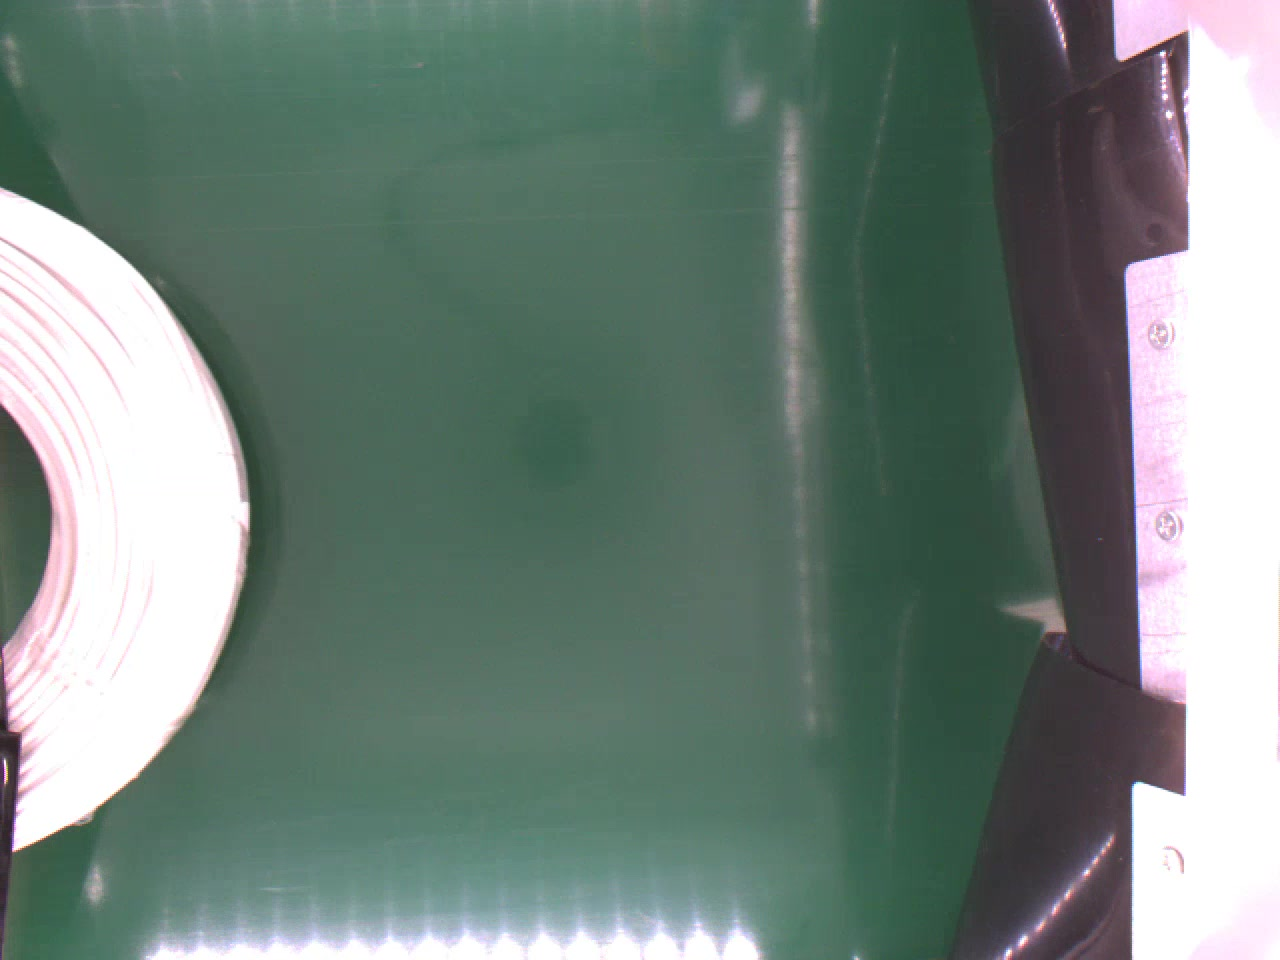white: (0, 182, 258, 857)
